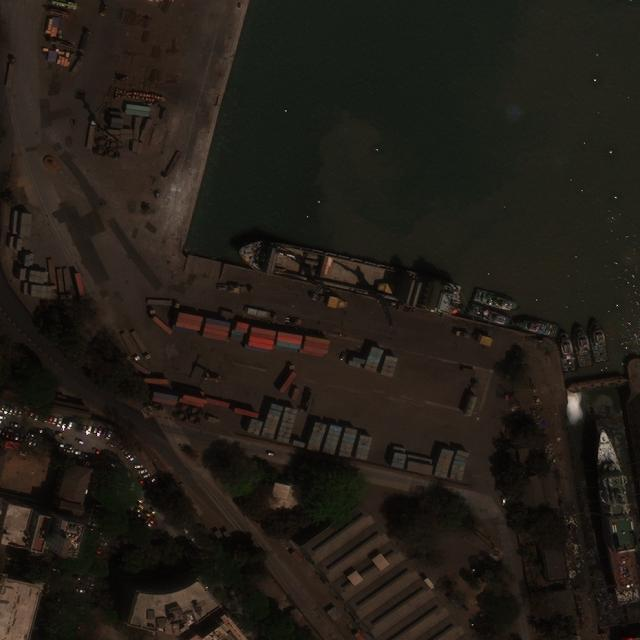Container Ship: (235, 233, 426, 307)
Other Ship: (596, 432, 640, 605), (471, 286, 521, 315), (511, 311, 559, 340), (552, 323, 578, 373), (569, 319, 594, 369), (466, 303, 513, 328), (586, 316, 610, 364)
